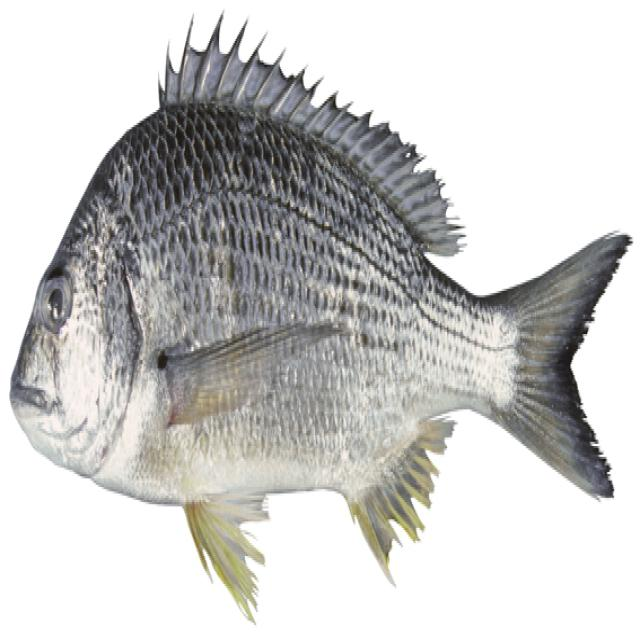ikan: (8, 9, 632, 622)
